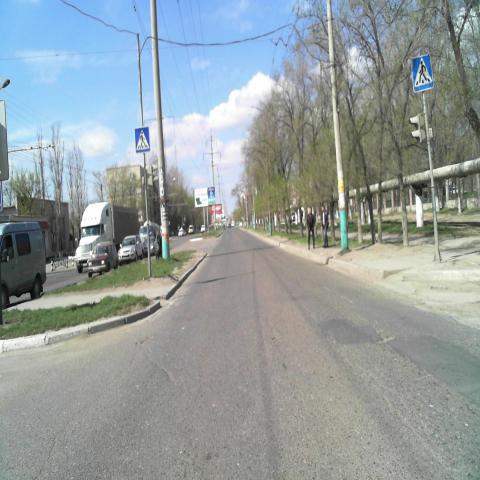5_19_1: (412, 53, 434, 92), (135, 128, 150, 153)
